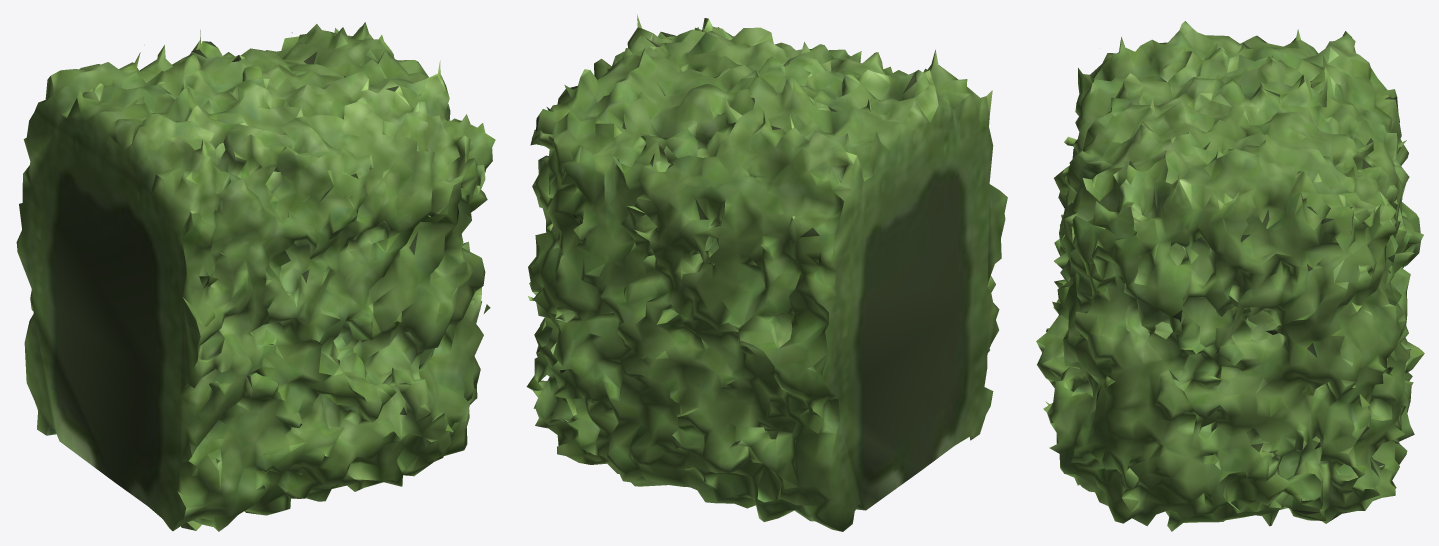
File: HedgeEnd.glb
3 views of the same model, side by side, from view 1: azimuth 30°, elevation 25°; view 2: azimuth 150°, elevation 25°; view 3: azimuth 270°, elevation 25° (orthographic). The views are drawn at different scales.
Parts seen in each view (by area): view 1: HedgeEnd; view 2: HedgeEnd; view 3: HedgeEnd.
Part boxes in pixels (x1=…): HedgeEnd: x1=16, y1=22, x2=495, y2=531; HedgeEnd: x1=526, y1=14, x2=1007, y2=531; HedgeEnd: x1=1036, y1=21, x2=1424, y2=531.
Bounding box in the file's own units: 0.9581 × 1.1 × 0.9908.
1 material, 1 textured.
